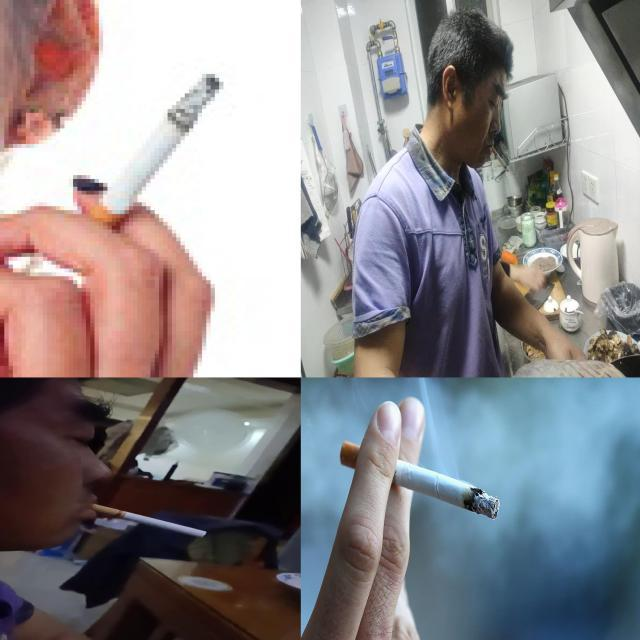smoking: (67, 71, 226, 258), (340, 440, 500, 520), (90, 504, 209, 539), (491, 144, 508, 170)
